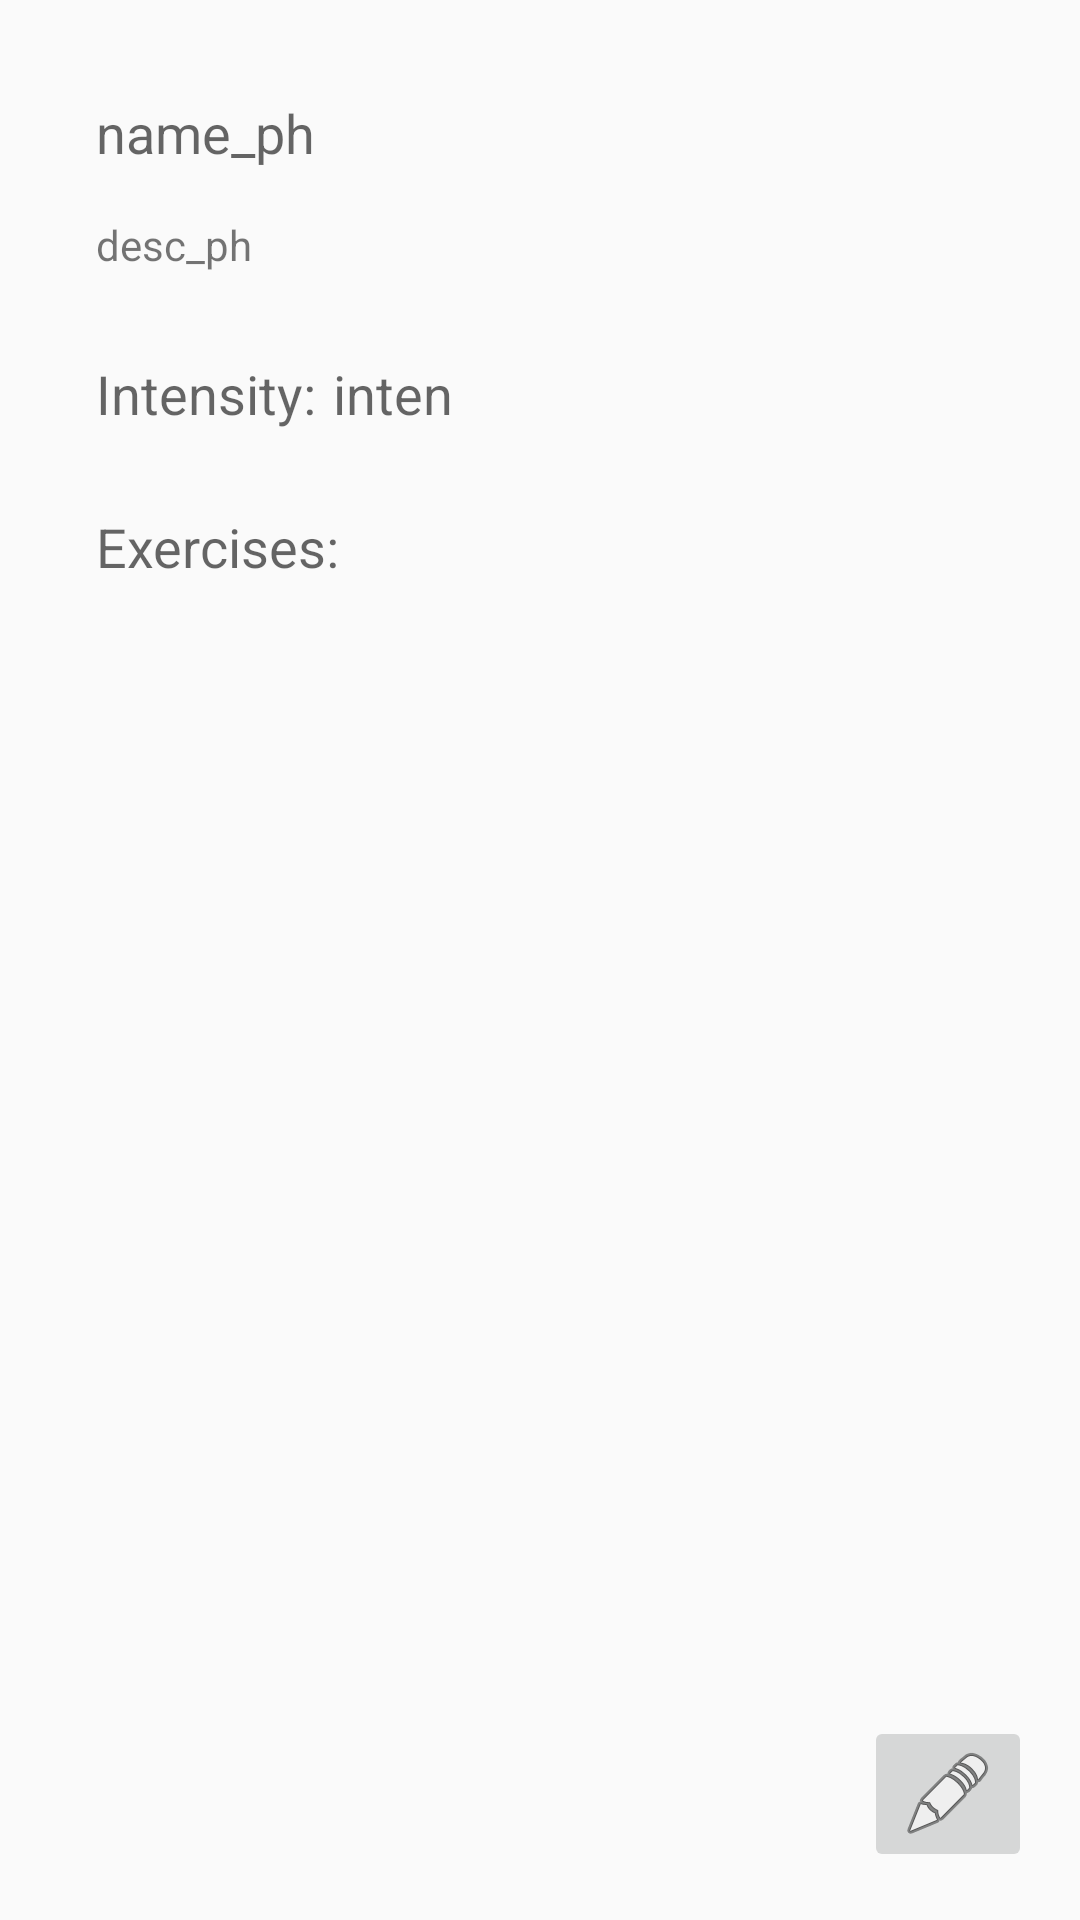

Icon bounding boxes for this 1080×1920 phone screenshot, format bbox=[x1, y1, x2, y2]:
edit: bbox=[876, 1734, 1020, 1854]
